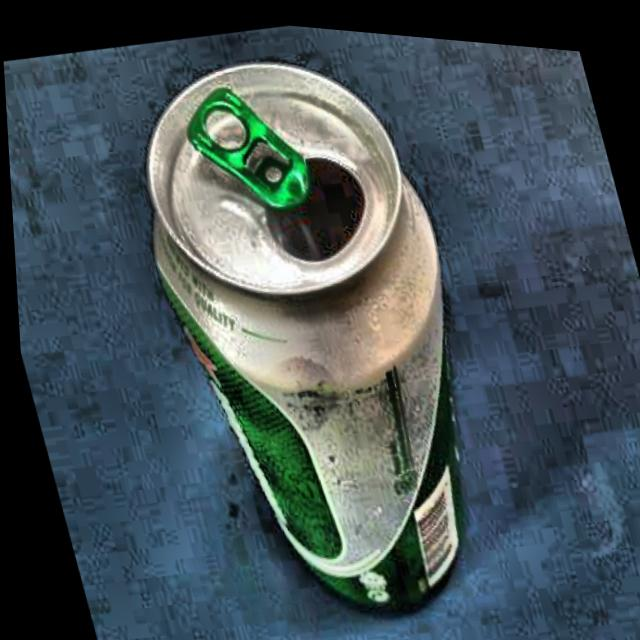Cans: (83, 6, 523, 640)
